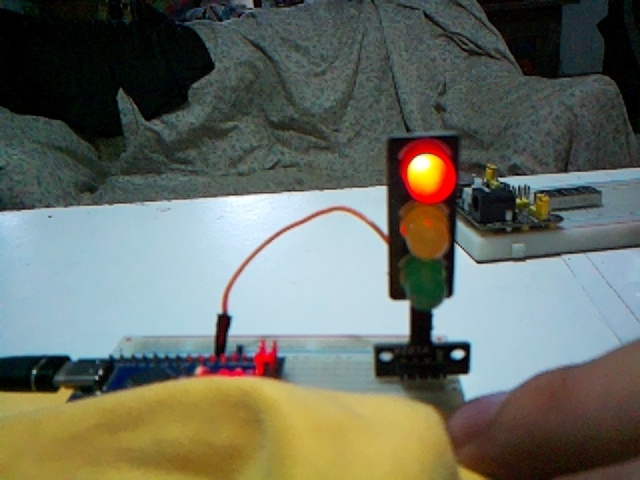traffic_light_red: (387, 132, 458, 309)
